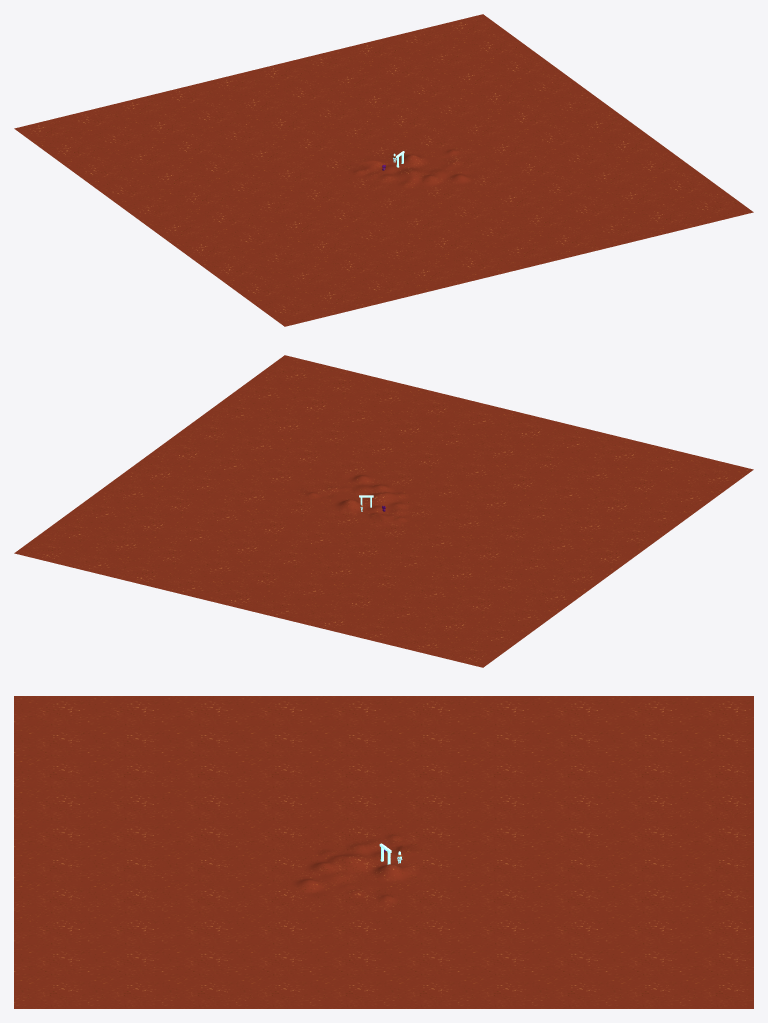
3 views of the same model, one above another, from view 1: azimuth 30°, elevation 25°; view 2: azimuth 150°, elevation 25°; view 3: azimuth 270°, elevation 25° (orthographic). The views are drawn at different scales.
Visible parts, largest first — view 1: Ground; view 2: Ground; view 3: Ground.
Part boxes in pixels (x1,y1,x2,y2): Ground: (14, 14, 753, 326); Ground: (14, 355, 753, 667); Ground: (14, 696, 753, 1008).
Bounding box in the file's own units: 400 × 50.9 × 400.
8 materials, 5 textured.
